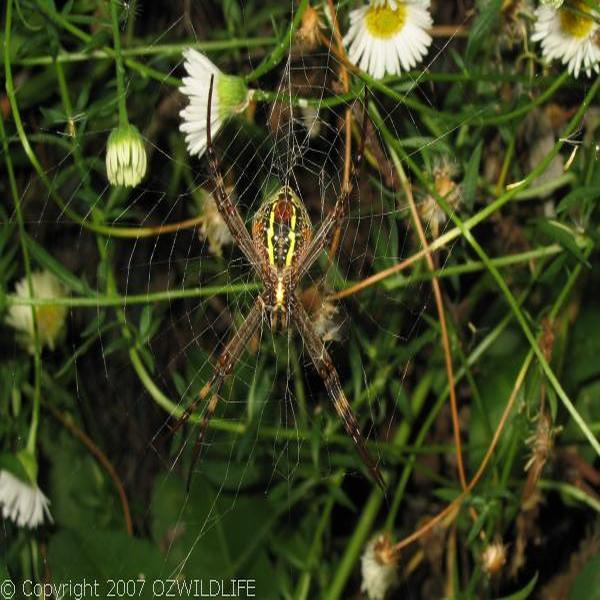St Andrew's Cross Spider: (173, 76, 391, 494)
